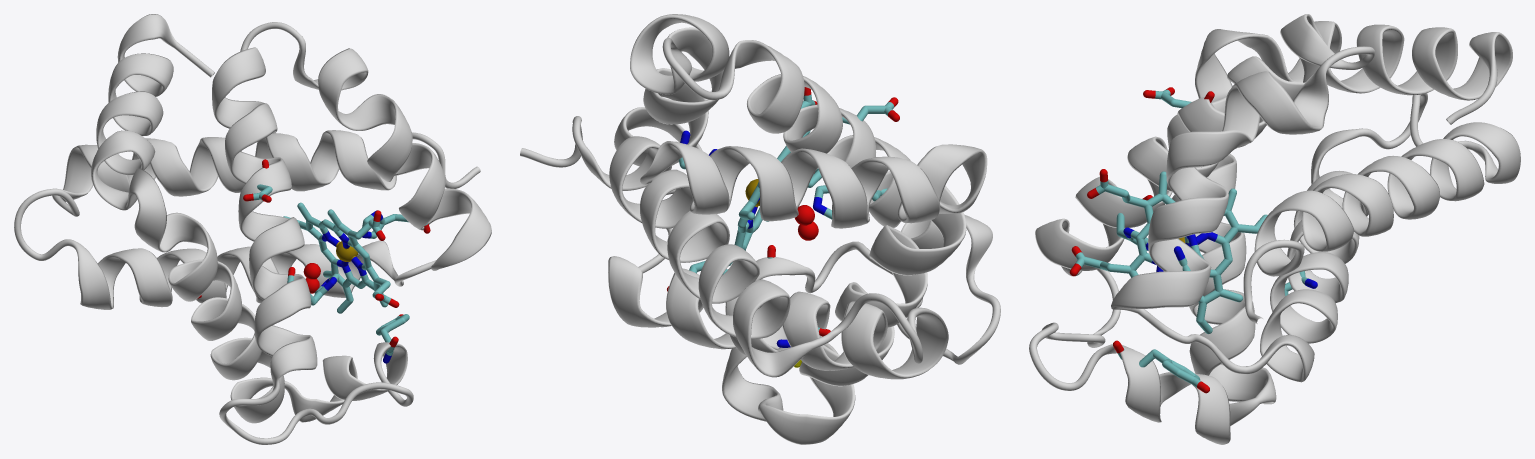
Rendered from frame05.gltf.
3 renders of one model, left to right at view 1: azimuth 30°, elevation 25°; view 2: azimuth 150°, elevation 25°; view 3: azimuth 270°, elevation 25°, orthographic. The views are drawn at different scales.
Visible parts, largest first — view 1: vmd_mol5_rep3, vmd_mol5_rep2, vmd_mol5_rep1; view 2: vmd_mol5_rep3, vmd_mol5_rep1, vmd_mol5_rep2, vmd_mol5_rep4; view 3: vmd_mol5_rep3, vmd_mol5_rep2, vmd_mol5_rep1.
Part boxes in pixels (x1,y1,x2,y2): vmd_mol5_rep3: [14, 14, 491, 444]; vmd_mol5_rep2: [283, 202, 399, 313]; vmd_mol5_rep1: [197, 159, 430, 363]; vmd_mol5_rep3: [520, 14, 1000, 444]; vmd_mol5_rep1: [667, 97, 899, 367]; vmd_mol5_rep2: [728, 87, 821, 266]; vmd_mol5_rep4: [795, 205, 818, 240]; vmd_mol5_rep3: [1029, 14, 1520, 444]; vmd_mol5_rep2: [1069, 169, 1267, 334]; vmd_mol5_rep1: [1113, 87, 1317, 393].
Size of the model in its own units: 1.42 by 1.19 by 1.3.
